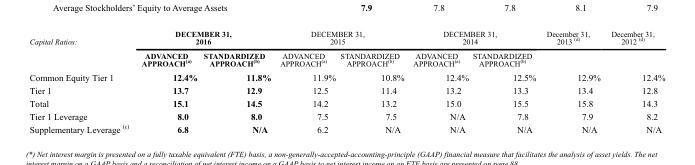table: (28, 28, 664, 133)
table column: (28, 28, 134, 133), (199, 28, 274, 133), (337, 28, 407, 133), (470, 28, 540, 133), (134, 28, 199, 133), (540, 28, 605, 133), (274, 28, 337, 133), (407, 28, 470, 133), (605, 28, 664, 133)
table column header: (28, 28, 664, 69)
table row: (28, 48, 664, 69), (28, 28, 664, 48), (28, 69, 664, 83), (28, 83, 664, 96), (28, 96, 664, 109), (28, 109, 664, 121), (28, 121, 664, 133)
table spanning cell: (28, 28, 134, 69), (134, 28, 274, 48), (540, 28, 605, 69), (274, 28, 407, 48), (407, 28, 540, 48), (605, 28, 664, 69)
